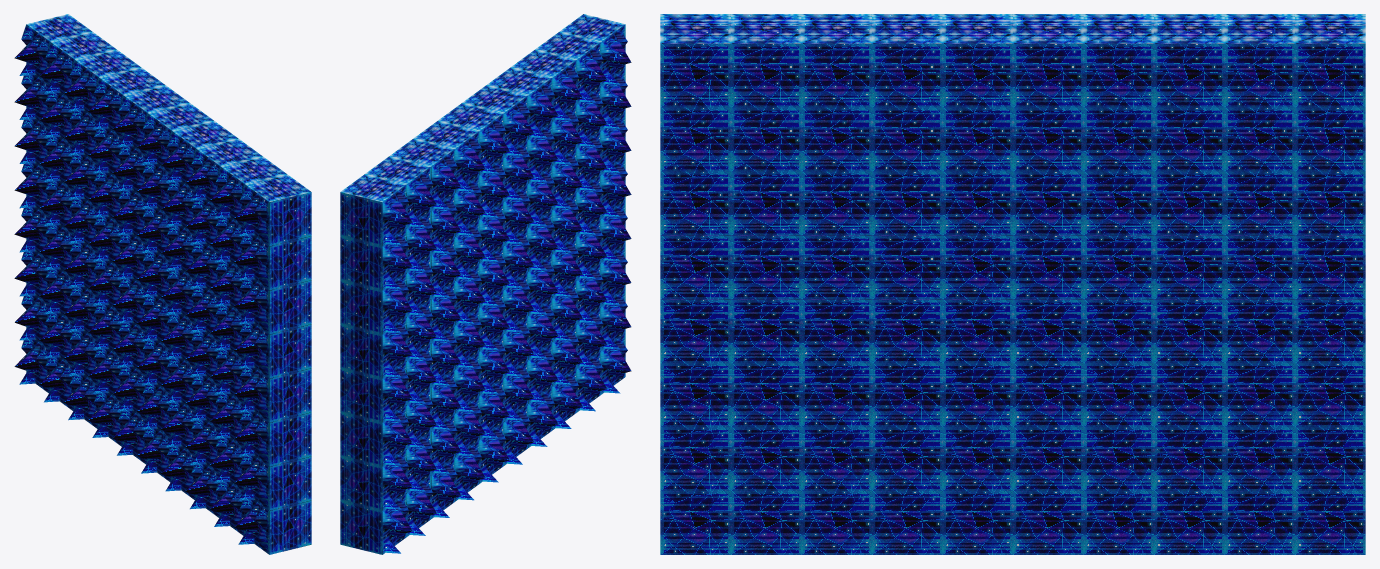
The model's file is ParedeGelo.glb.
3 views of the same model, side by side, from view 1: azimuth 30°, elevation 25°; view 2: azimuth 150°, elevation 25°; view 3: azimuth 270°, elevation 25° (orthographic). The views are drawn at different scales.
Parts seen in each view (by area): view 1: BlocoCristal.002; view 2: BlocoCristal.002; view 3: BlocoCristal.002.
Boxes of the visible parts, x1,y1,x2,y2 form: BlocoCristal.002: (14, 14, 311, 554); BlocoCristal.002: (340, 14, 631, 554); BlocoCristal.002: (660, 14, 1365, 554).
Bounding box in the file's own units: 3 × 16 × 20.
1 material, 1 textured.
